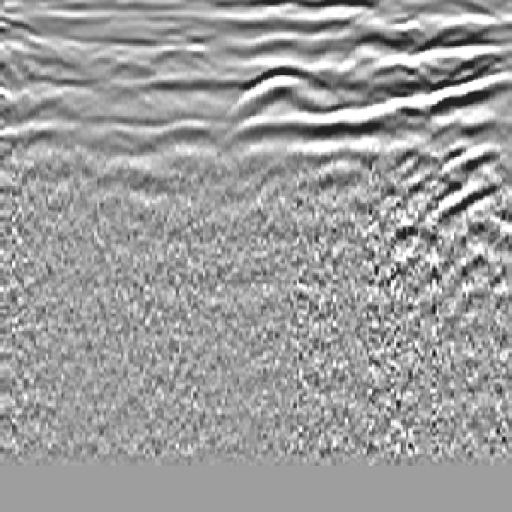metalic: (223, 55, 353, 118)
